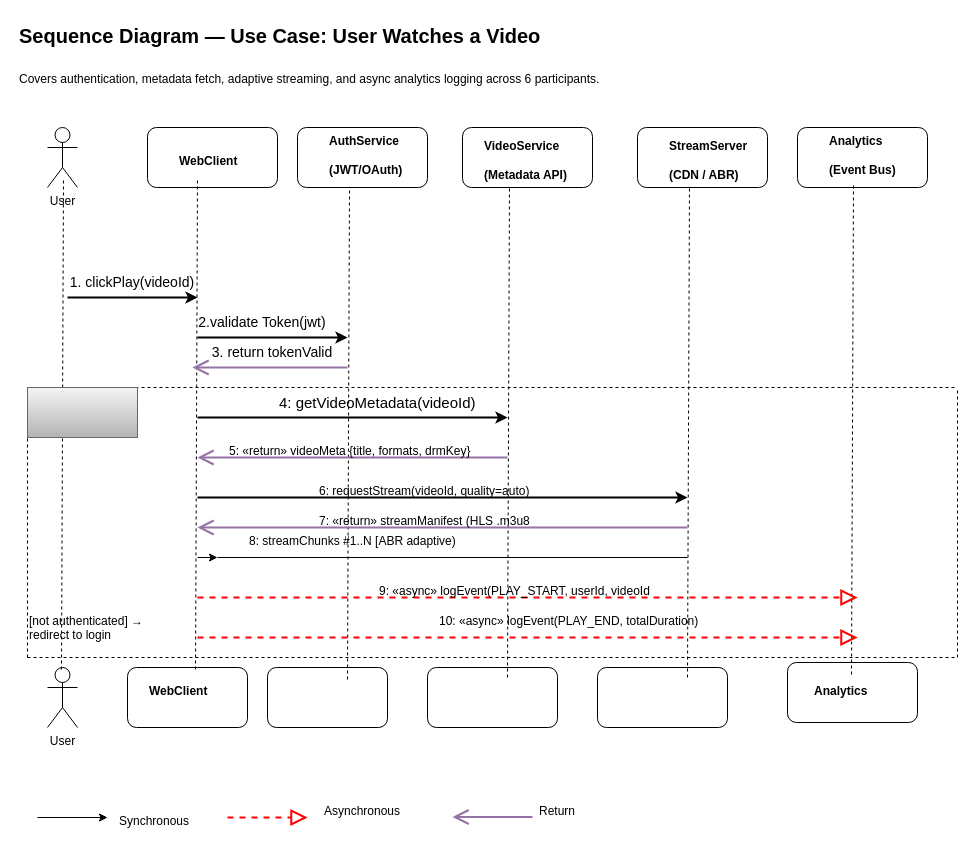
This 976x864 diagram has some shape labels left out. Here are the shapes that lost their labels. From the top down, the centre of each, then its label:
the point at 82,412: alt [authenticated]
the point at 327,697: AuthService
the point at 492,697: VideoService
the point at 662,697: StreamServer
